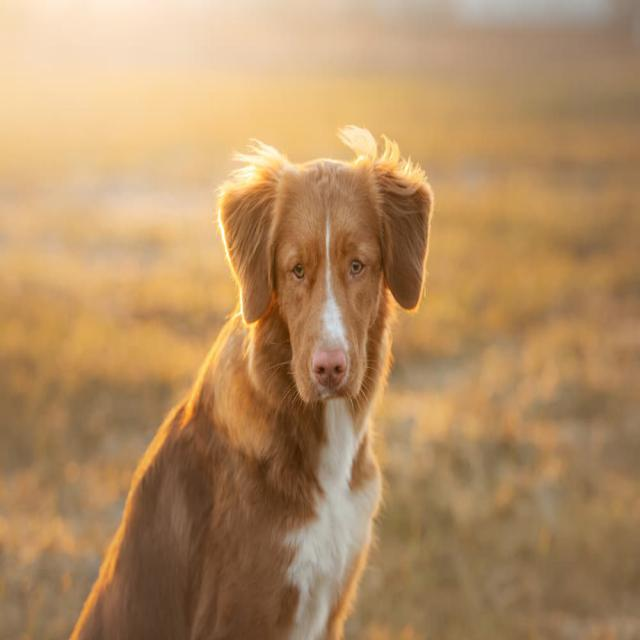eye: (289, 260, 309, 284), (348, 256, 368, 279)
